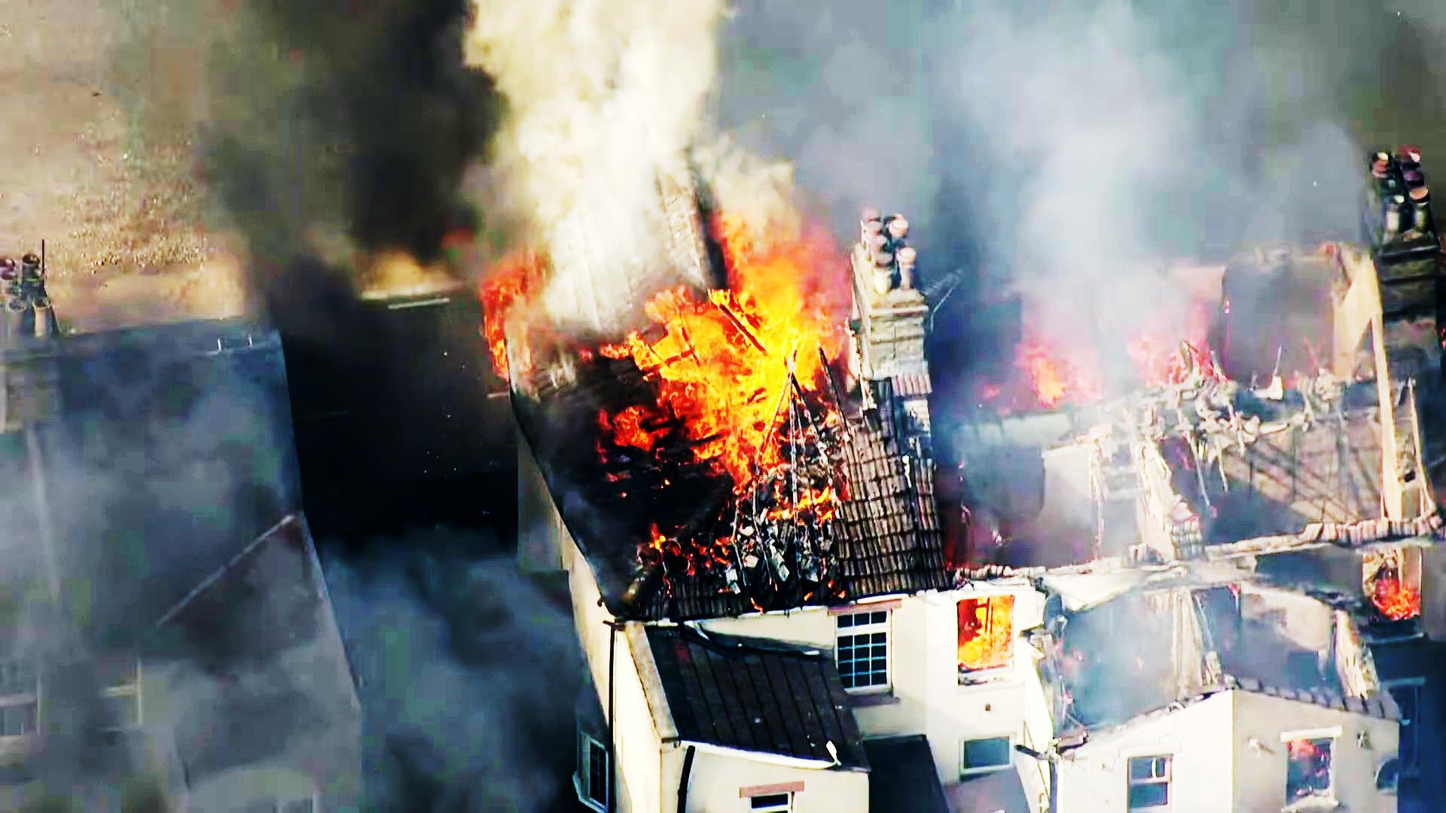fire: (622, 207, 843, 443), (1021, 285, 1254, 395)
smoke: (377, 0, 703, 185)
